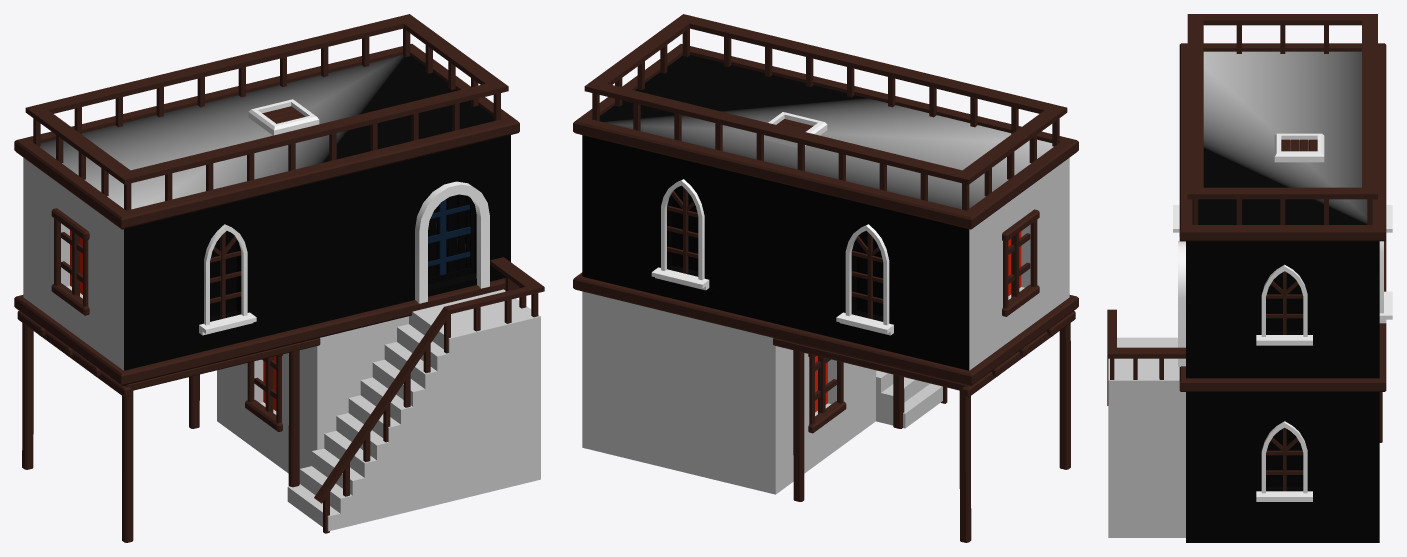
The model's file is civilian_house_34_c.FBX.
3 renders of one model, left to right at view 1: azimuth 30°, elevation 25°; view 2: azimuth 150°, elevation 25°; view 3: azimuth 270°, elevation 25°, orthographic. The views are drawn at different scales.
Visible parts, largest first — view 1: civilian_house_34_c; view 2: civilian_house_34_c; view 3: civilian_house_34_c.
Part boxes in pixels (bbox=[...]): civilian_house_34_c: bbox=[14, 14, 544, 542]; civilian_house_34_c: bbox=[573, 14, 1078, 542]; civilian_house_34_c: bbox=[1107, 14, 1392, 542].
Bounding box in the file's own units: 1049 × 897 × 664.
